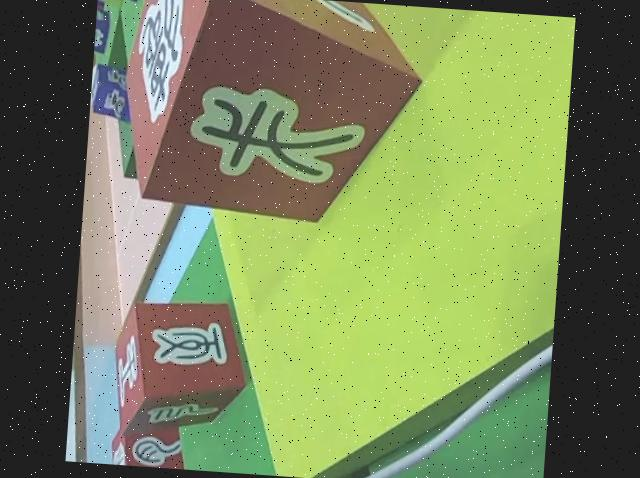R2 Fake: (113, 0, 435, 233), (107, 288, 251, 445), (104, 413, 196, 470)
